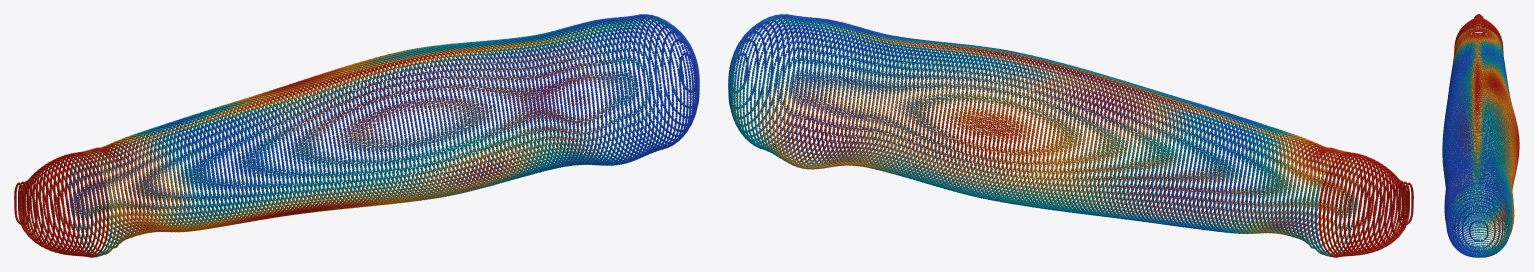
Rendered from forma_nuvola_sito.glb.
3 renders of one model, left to right at view 1: azimuth 30°, elevation 25°; view 2: azimuth 150°, elevation 25°; view 3: azimuth 270°, elevation 25°, orthographic. The views are drawn at different scales.
Parts seen in each view (by area): view 1: forma_nuvola; view 2: forma_nuvola; view 3: forma_nuvola.
Part boxes in pixels (<box>): forma_nuvola: <box>14,14,699,257</box>; forma_nuvola: <box>728,14,1413,257</box>; forma_nuvola: <box>1442,14,1519,257</box>.
Size of the model in its own units: 0.1472 by 0.0321 by 0.0257.
